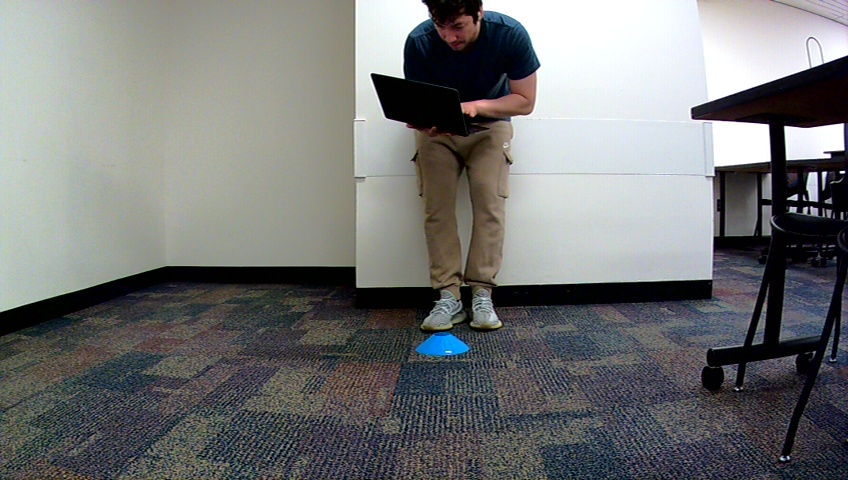cone: (414, 331, 470, 357)
